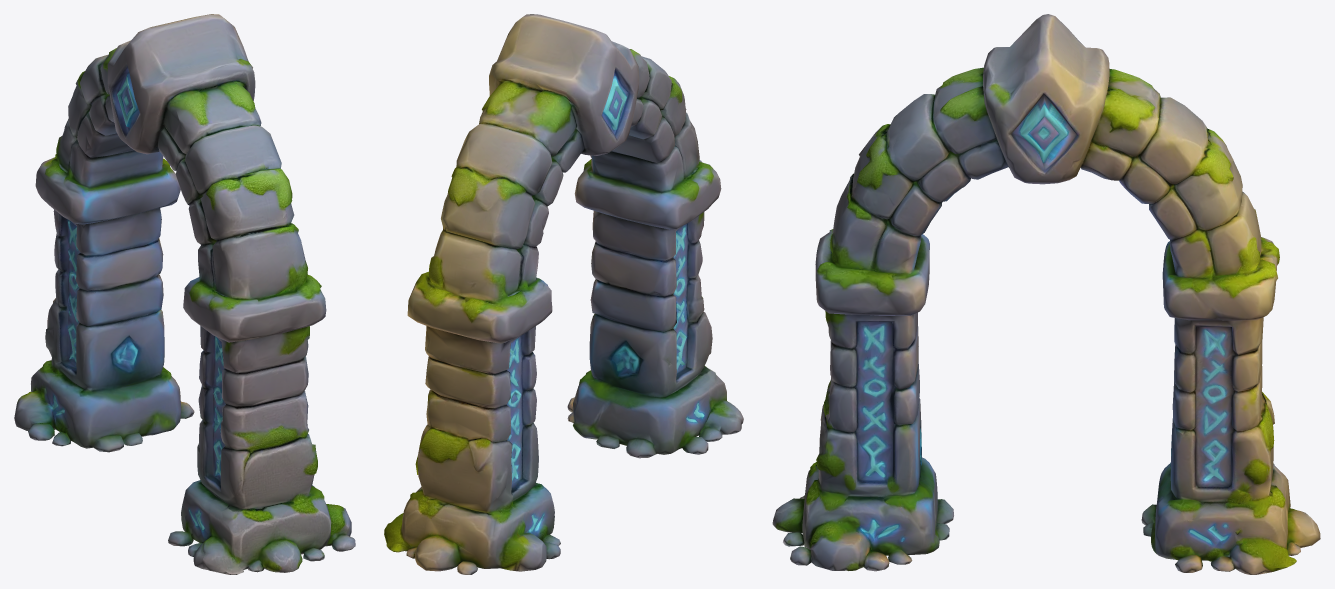
The model's file is portal_arch.glb.
The picture shows the model from 3 angles, left to right: view 1: azimuth 30°, elevation 25°; view 2: azimuth 150°, elevation 25°; view 3: azimuth 270°, elevation 25°; orthographic projection. The views are drawn at different scales.
Visible parts, largest first — view 1: tripo_node_a375e72c-e902-448e-ad0b-ba2e1af6d1fe; view 2: tripo_node_a375e72c-e902-448e-ad0b-ba2e1af6d1fe; view 3: tripo_node_a375e72c-e902-448e-ad0b-ba2e1af6d1fe.
Boxes of the visible parts, x1,y1,x2,y2 form: tripo_node_a375e72c-e902-448e-ad0b-ba2e1af6d1fe: (14, 14, 355, 574); tripo_node_a375e72c-e902-448e-ad0b-ba2e1af6d1fe: (384, 14, 743, 574); tripo_node_a375e72c-e902-448e-ad0b-ba2e1af6d1fe: (772, 14, 1320, 574).
Size of the model in its own units: 0.4429 by 1.2 by 1.19.
1 material, 1 textured.
